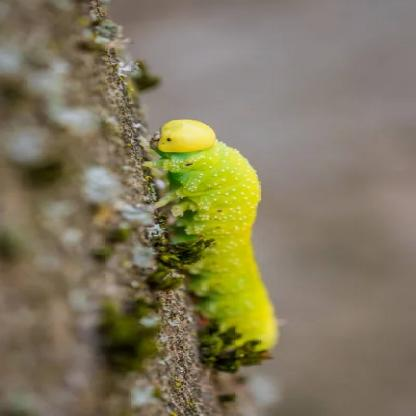sawfly: (140, 112, 281, 371)
